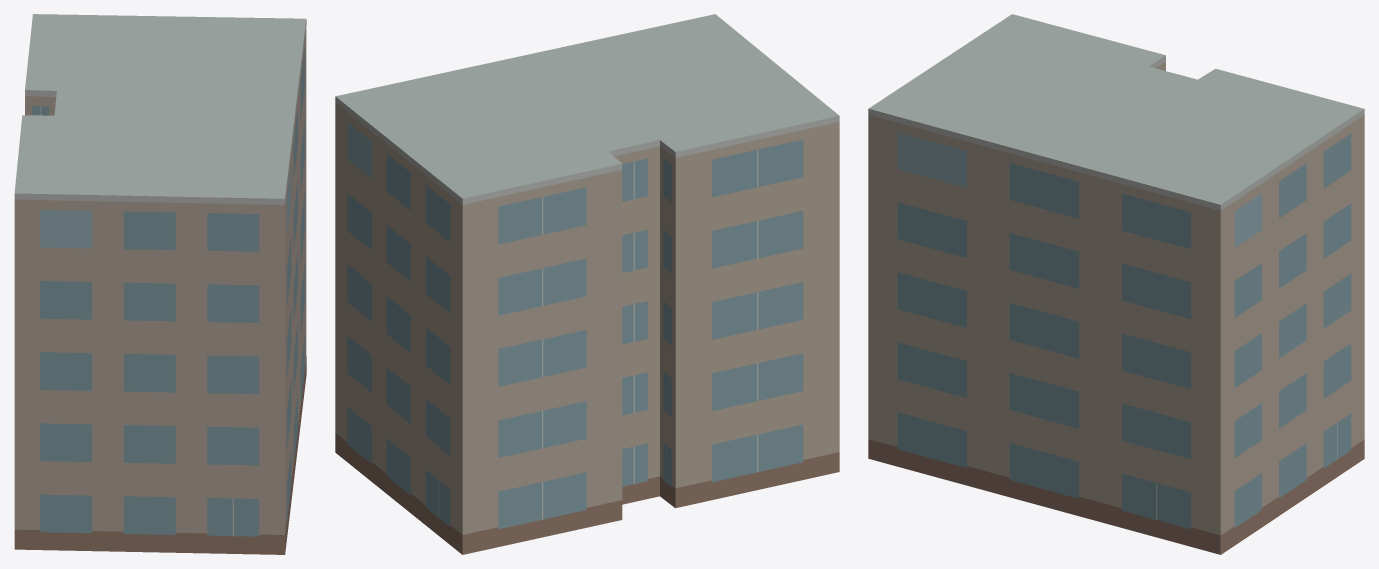
File: survey-upis-32700599.glb
The picture shows the model from 3 angles, left to right: view 1: azimuth 30°, elevation 25°; view 2: azimuth 150°, elevation 25°; view 3: azimuth 270°, elevation 25°; orthographic projection.
Visible parts, largest first — view 1: survey-upis-32700599.tmp; view 2: survey-upis-32700599.tmp; view 3: survey-upis-32700599.tmp.
Part boxes in pixels (left/top/right/bottom): survey-upis-32700599.tmp: left=14, top=14, right=306, bottom=554; survey-upis-32700599.tmp: left=335, top=14, right=839, bottom=554; survey-upis-32700599.tmp: left=868, top=14, right=1364, bottom=554.
Bounding box in the file's own units: 16.62 × 14.2 × 18.25.
